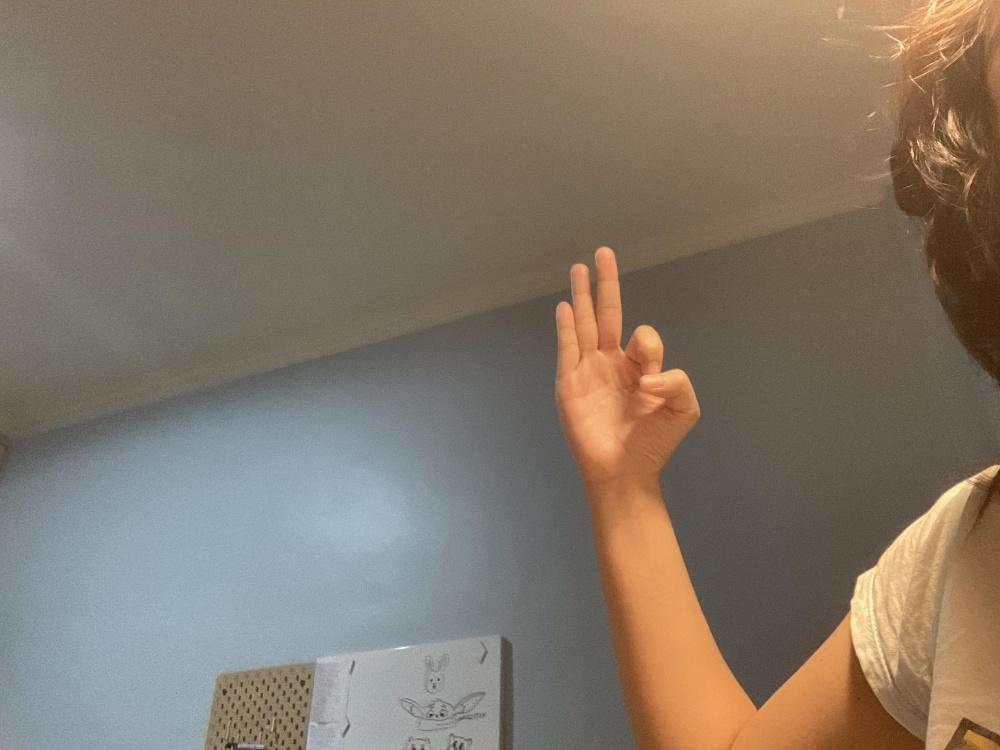f: (553, 245, 700, 483)
